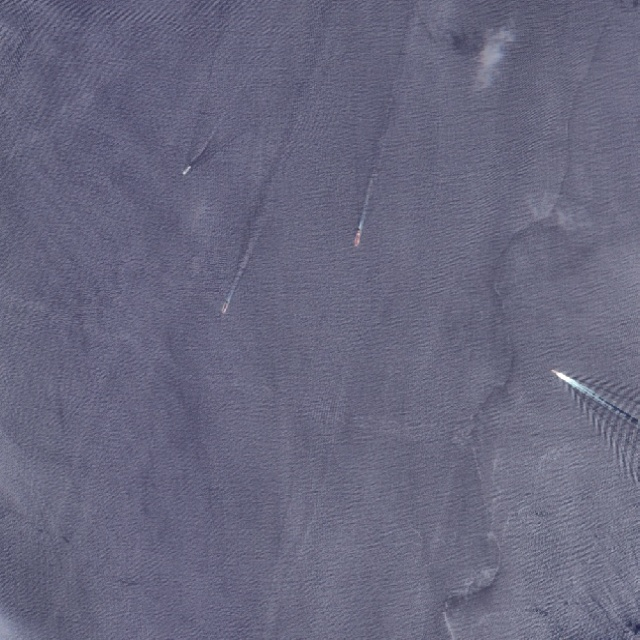wake: (531, 343, 638, 436)
